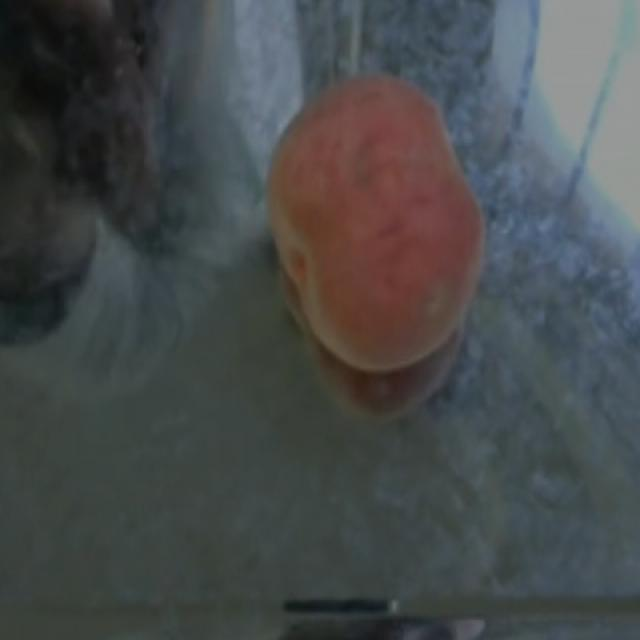Fruit: (242, 49, 514, 386)
